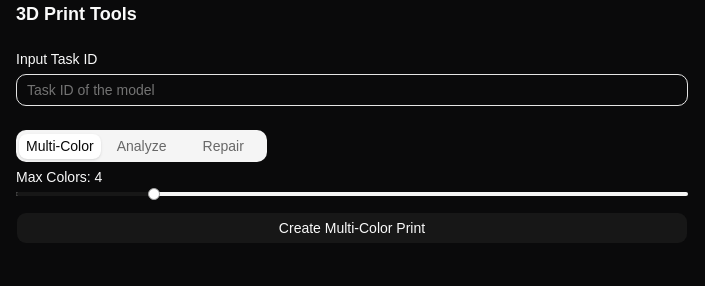
Test: PrintPanel — TC-PRINT (3D Print Tools) › TC-PRINT-04: analyze tab shows the free credit cost estimate
Click the tab "Analyze".
click(142, 146)  # box [101,134,182,158]
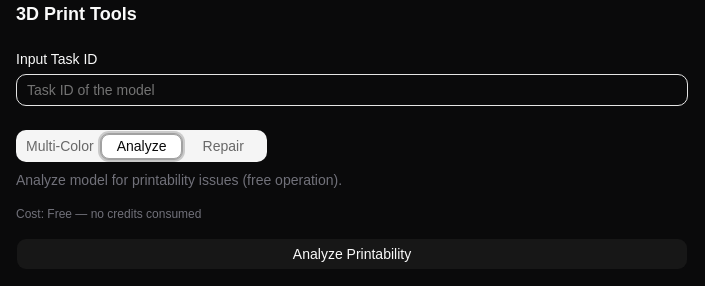
Expected: the text "Cost: Free — no credits consumed" is shown, [16,207,201,221]
